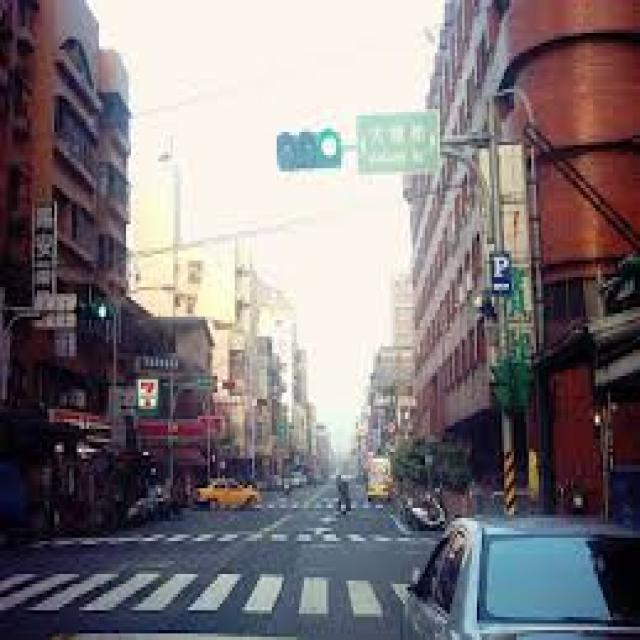green light: (273, 127, 345, 173), (74, 302, 114, 322)
